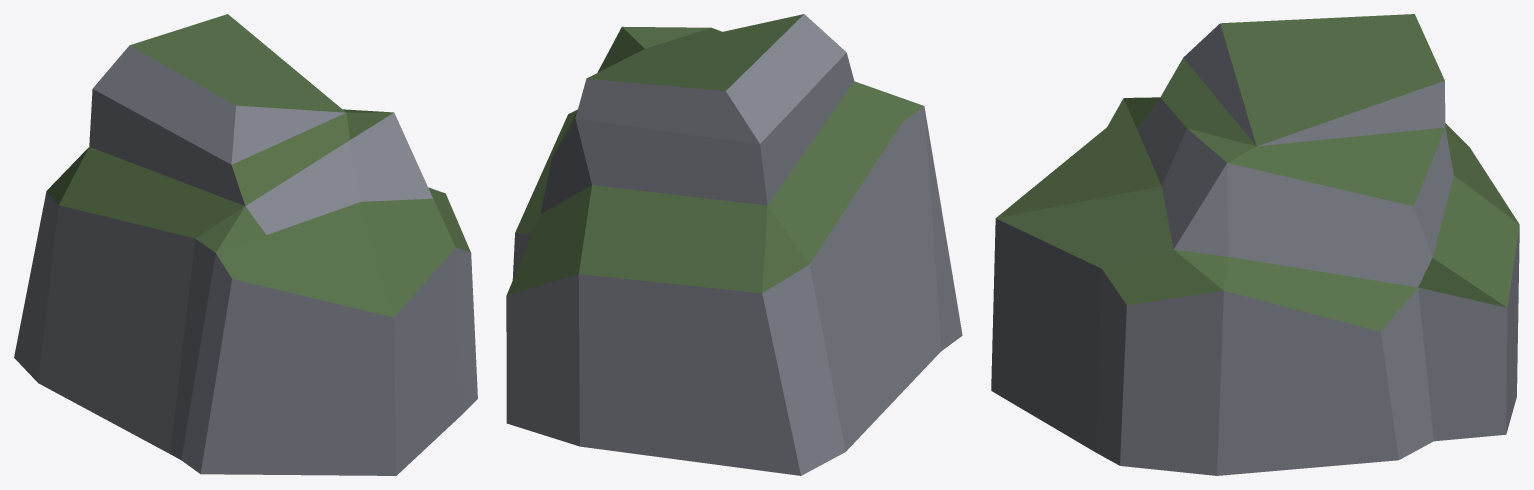
File: rock_moss_7.glb
The picture shows the model from 3 angles, left to right: view 1: azimuth 30°, elevation 25°; view 2: azimuth 150°, elevation 25°; view 3: azimuth 270°, elevation 25°; orthographic projection. The views are drawn at different scales.
Parts seen in each view (by area): view 1: Rock_Moss_7; view 2: Rock_Moss_7; view 3: Rock_Moss_7.
Part boxes in pixels (x1,y1,x2,y2): Rock_Moss_7: (14, 14, 477, 475); Rock_Moss_7: (506, 14, 962, 475); Rock_Moss_7: (991, 14, 1519, 475).
Bounding box in the file's own units: 0.8756 × 0.7739 × 1.1.
